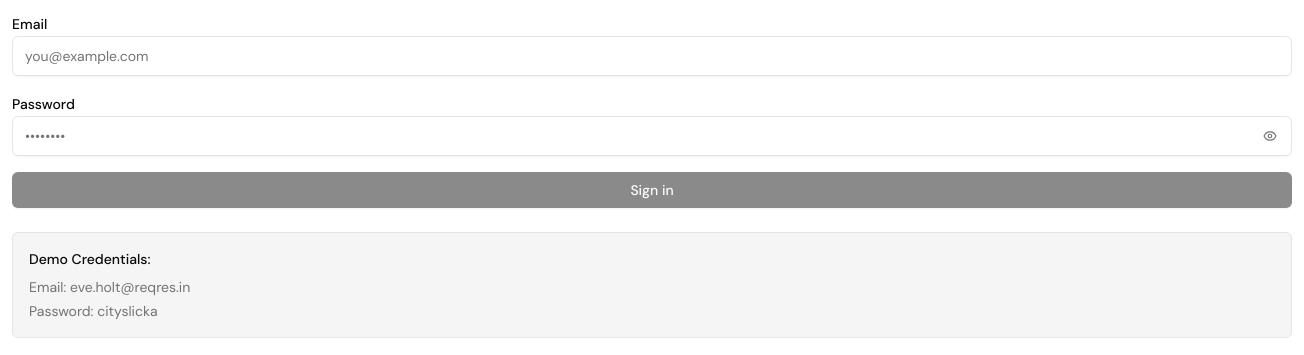
Test case: LoginForm › form submission › loading state › shows Signing in text and disables inputs while login is pending
Type "eve.holt@reqres.in" into the field labelled "Email" at (652, 56), box x1=13 y1=38 x2=1291 y2=74
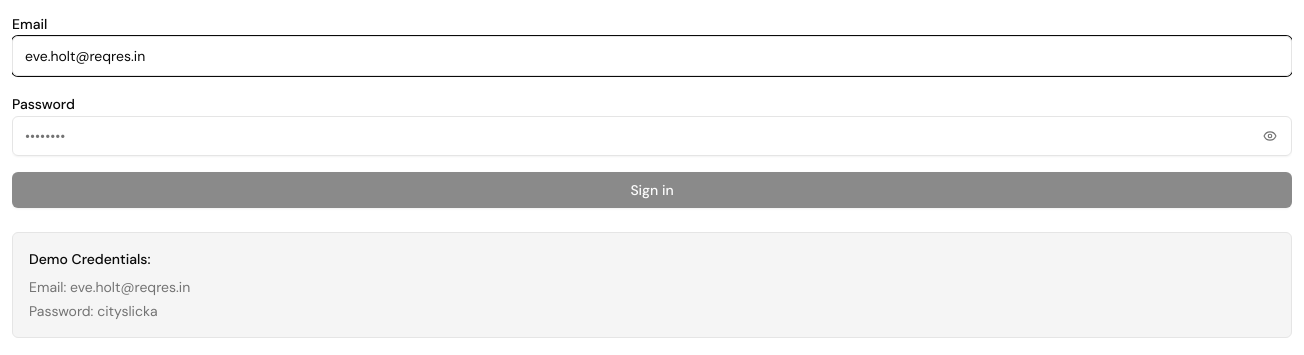
Type "cityslicka" into the password field labelled "Password" at (634, 136), box x1=13 y1=118 x2=1255 y2=154
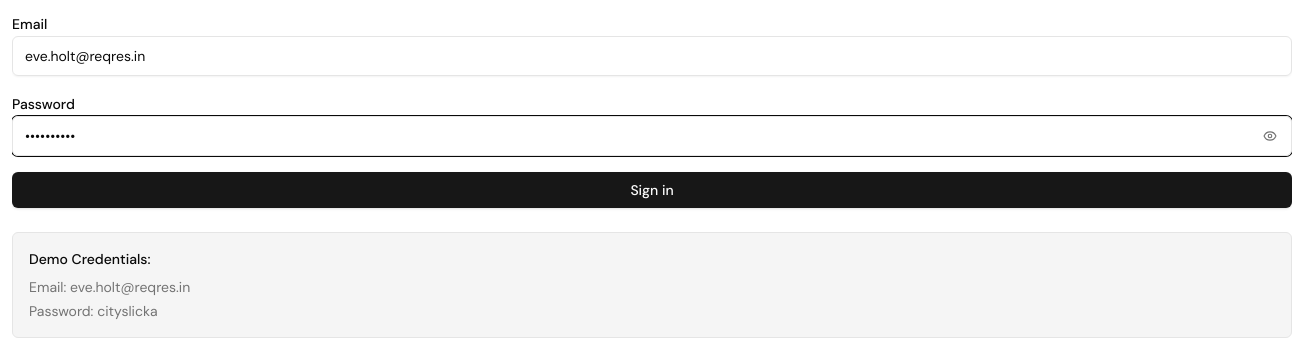
Click the button "Sign in" at (652, 190), box x1=12 y1=172 x2=1292 y2=208
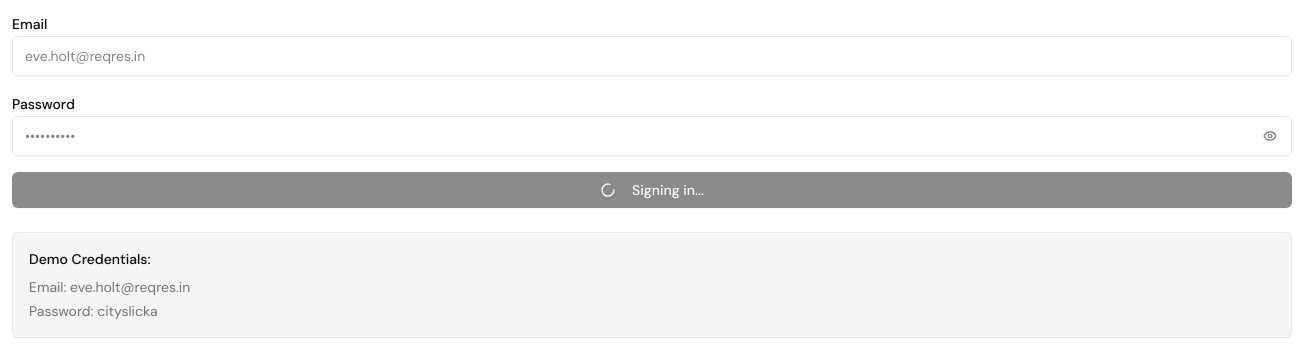
Check: the button "Signing in..." is shown, box x1=12 y1=172 x2=1292 y2=208
Check: the field labelled "Email" is disabled, box x1=13 y1=38 x2=1291 y2=74
Check: the password field labelled "Password" is disabled, box x1=13 y1=118 x2=1255 y2=154
